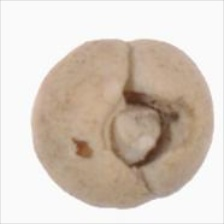L3: (105, 85, 178, 170)
L4: (31, 38, 215, 210)
